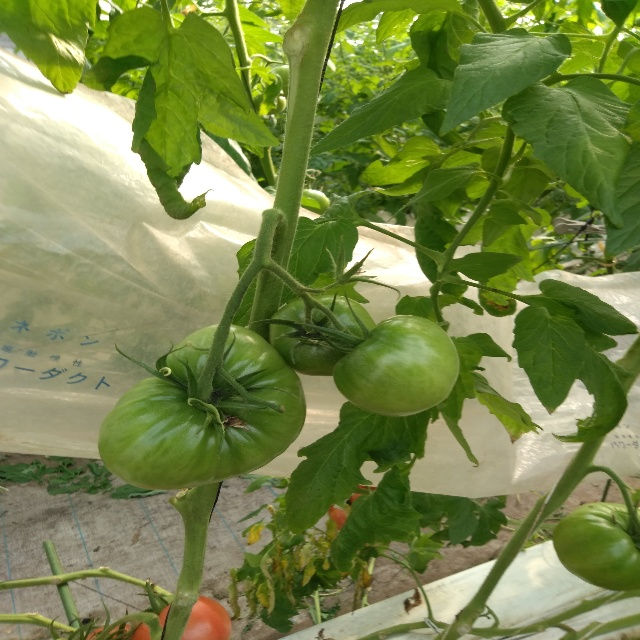b_fully_ripened: (131, 595, 232, 640), (86, 625, 134, 639)
b_green: (98, 323, 307, 490), (332, 314, 459, 417), (269, 295, 377, 376), (552, 502, 640, 591)
